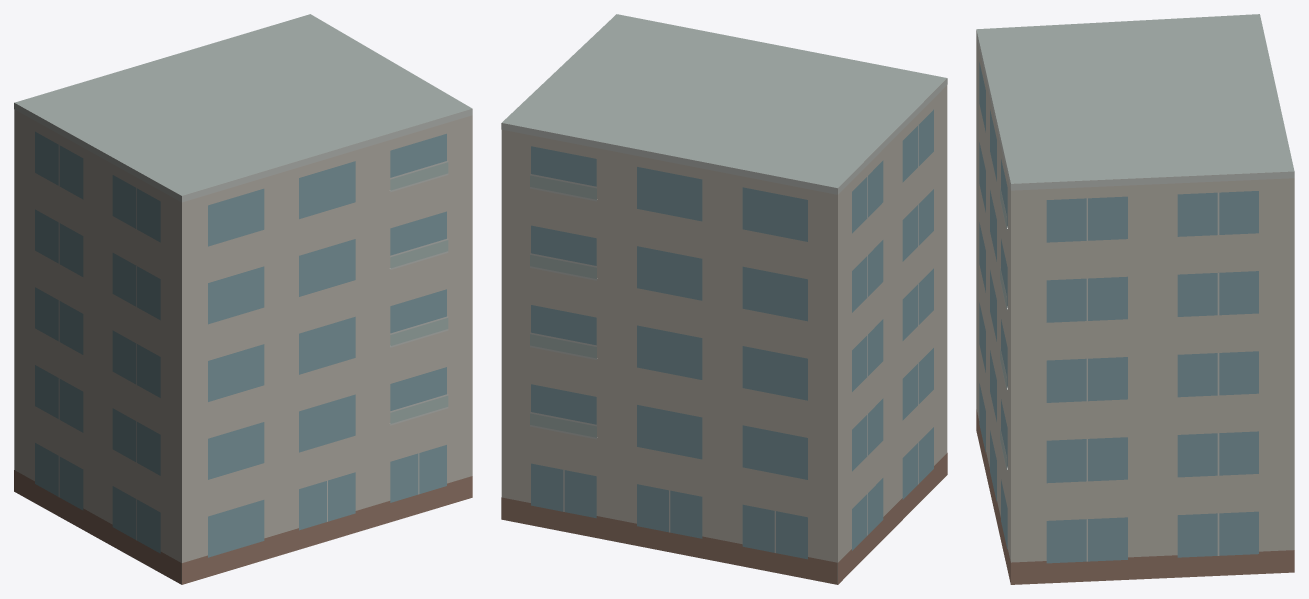
File: survey-upis-32533538.glb
3 renders of one model, left to right at view 1: azimuth 30°, elevation 25°; view 2: azimuth 150°, elevation 25°; view 3: azimuth 270°, elevation 25°, orthographic. The views are drawn at different scales.
Visible parts, largest first — view 1: survey-upis-32533538.tmp; view 2: survey-upis-32533538.tmp; view 3: survey-upis-32533538.tmp.
Boxes of the visible parts, x1,y1,x2,y2 form: survey-upis-32533538.tmp: [14, 14, 472, 584]; survey-upis-32533538.tmp: [501, 14, 947, 584]; survey-upis-32533538.tmp: [976, 14, 1294, 584].
Bounding box in the file's own units: 13.19 × 14.5 × 10.44.
